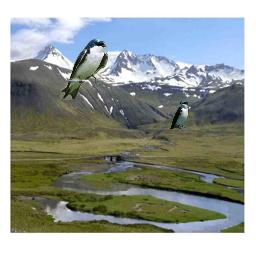Swallow: (60, 38, 108, 100), (170, 100, 189, 130)
